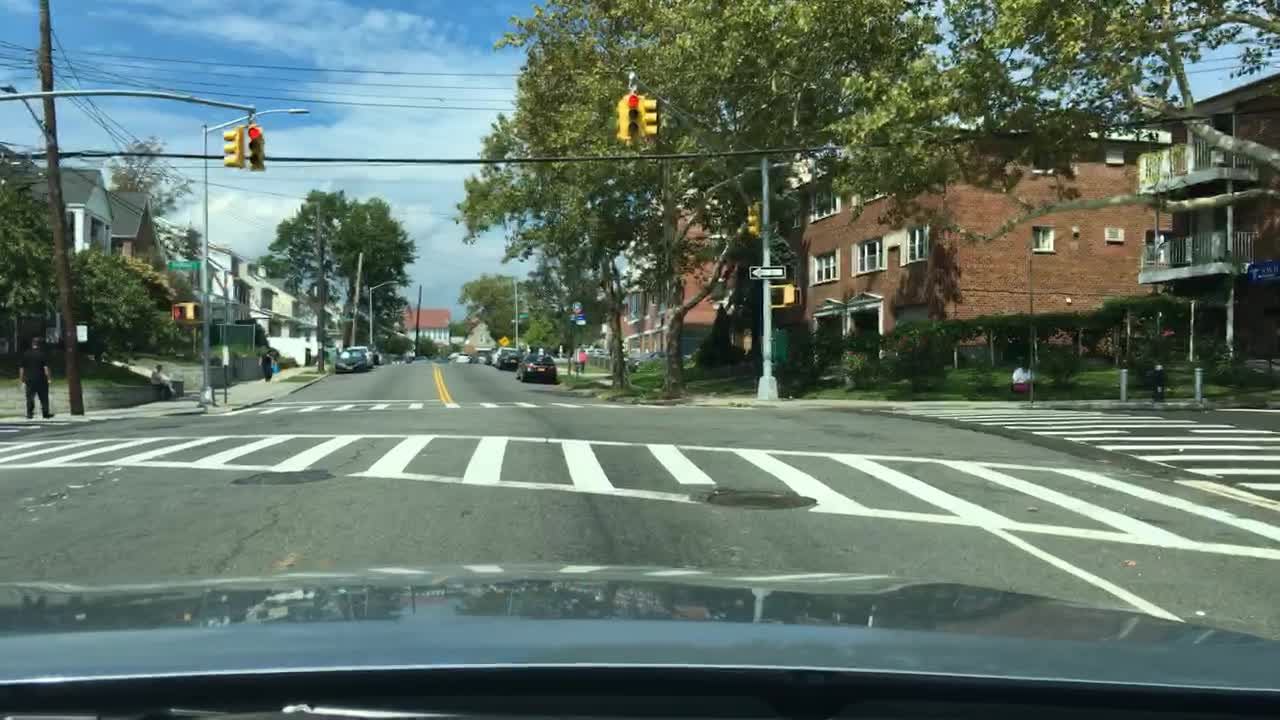car: (516, 353, 557, 384), (332, 351, 368, 376), (496, 347, 526, 371), (352, 344, 376, 368), (469, 347, 489, 366), (454, 347, 471, 364), (487, 349, 504, 366)
person: (17, 332, 55, 422), (148, 363, 179, 405), (255, 346, 278, 381), (577, 344, 587, 374)
traffic light: (219, 125, 241, 165), (244, 121, 260, 165), (641, 98, 660, 135), (626, 91, 639, 137), (744, 199, 761, 233), (611, 96, 624, 140), (781, 285, 805, 305), (168, 302, 187, 320), (185, 300, 201, 320)
traffic sign: (749, 266, 784, 282), (167, 260, 204, 270), (568, 300, 584, 315), (506, 314, 523, 326), (498, 334, 513, 347), (570, 312, 585, 324)
